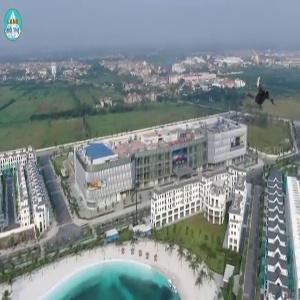drone: (242, 71, 287, 116)
